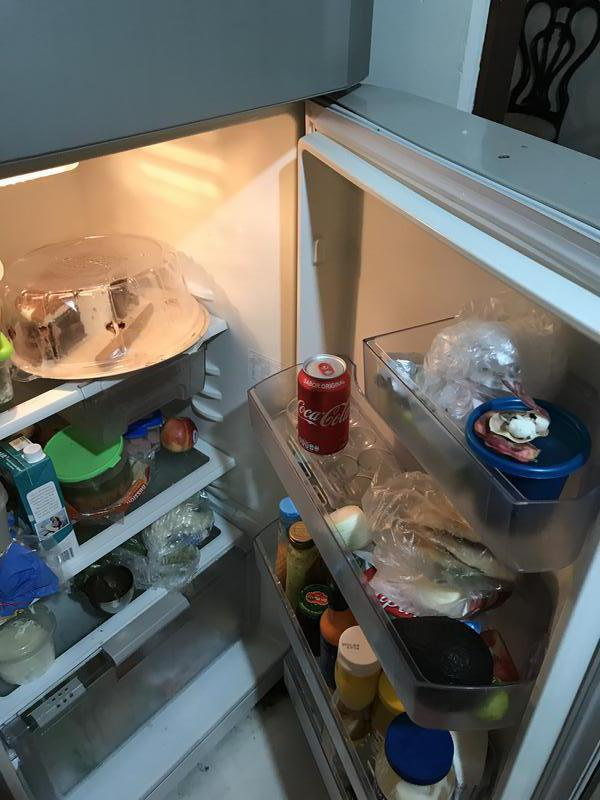coca_cola: (295, 352, 352, 455)
